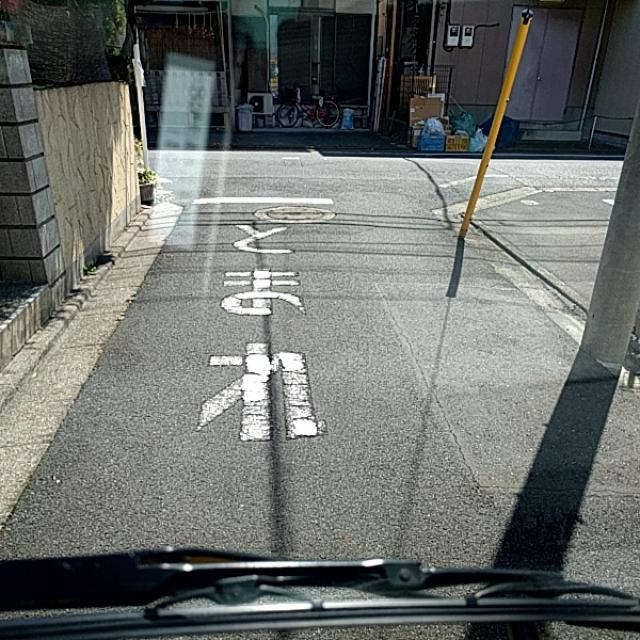pothole: (404, 361, 468, 426)
